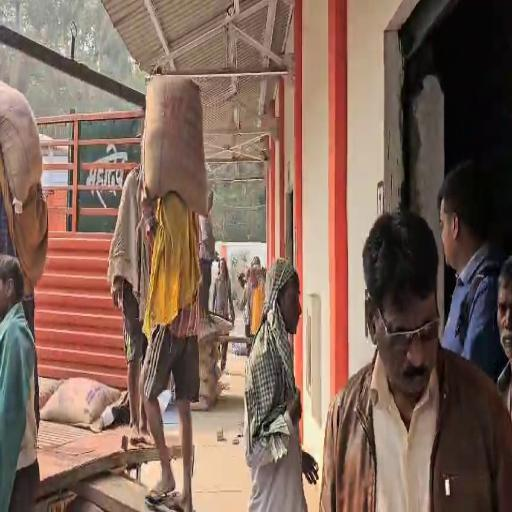bag: (142, 62, 215, 224), (0, 77, 54, 210)
